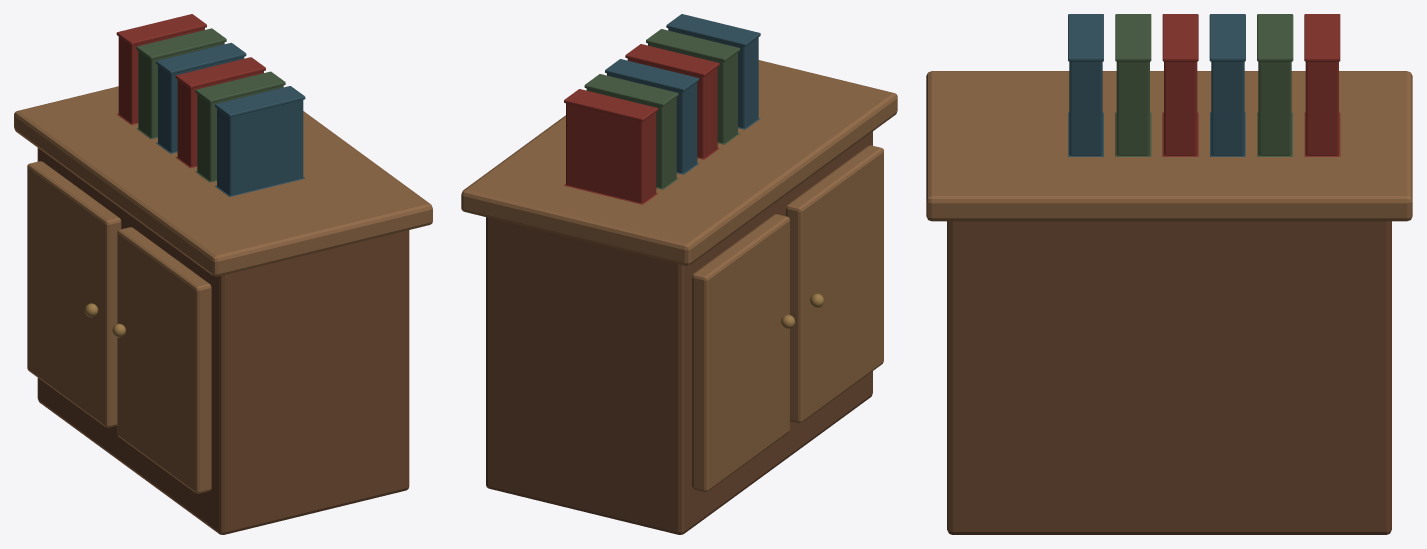
File: SM_CP_CrimeCabinet.fbx
The picture shows the model from 3 angles, left to right: view 1: azimuth 30°, elevation 25°; view 2: azimuth 150°, elevation 25°; view 3: azimuth 270°, elevation 25°; orthographic projection. The views are drawn at different scales.
Parts seen in each view (by area): view 1: SM_CP_CrimeCabinet; view 2: SM_CP_CrimeCabinet; view 3: SM_CP_CrimeCabinet.
Boxes of the visible parts, bbox=[...] form: SM_CP_CrimeCabinet: bbox=[14, 14, 432, 534]; SM_CP_CrimeCabinet: bbox=[461, 14, 897, 534]; SM_CP_CrimeCabinet: bbox=[926, 14, 1412, 534].
Size of what is drawn, in the model's own units: 117 by 175 by 177.
